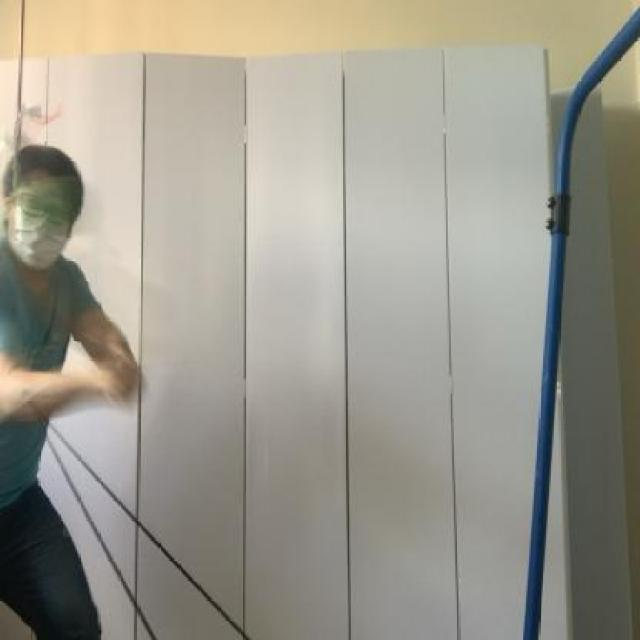baseball: (0, 168, 105, 282)
